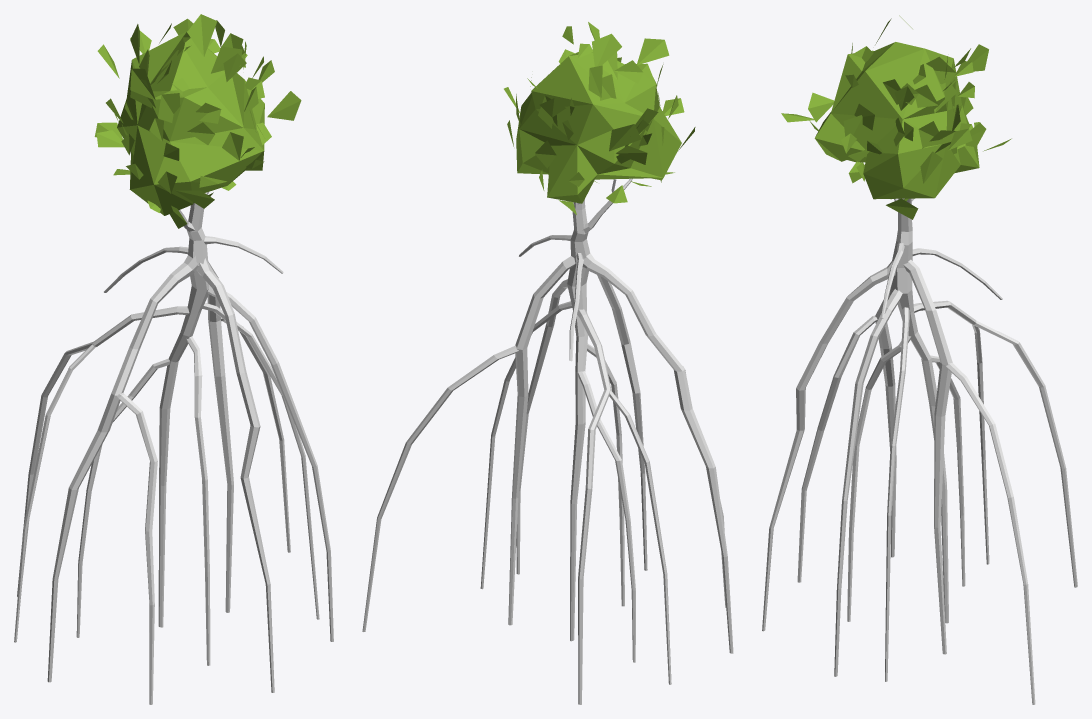
Rendered from tree-mangrove-young-a.gltf.
3 views of the same model, side by side, from view 1: azimuth 30°, elevation 25°; view 2: azimuth 150°, elevation 25°; view 3: azimuth 270°, elevation 25° (orthographic). The views are drawn at different scales.
Visible parts, largest first — view 1: tree-mangrove-young-a; view 2: tree-mangrove-young-a; view 3: tree-mangrove-young-a.
Part boxes in pixels (x1=…): tree-mangrove-young-a: x1=14, y1=14, x2=333, y2=704; tree-mangrove-young-a: x1=362, y1=22, x2=733, y2=704; tree-mangrove-young-a: x1=762, y1=15, x2=1077, y2=704.
Bounding box in the file's own units: 0.0321 × 0.0614 × 0.0288.
